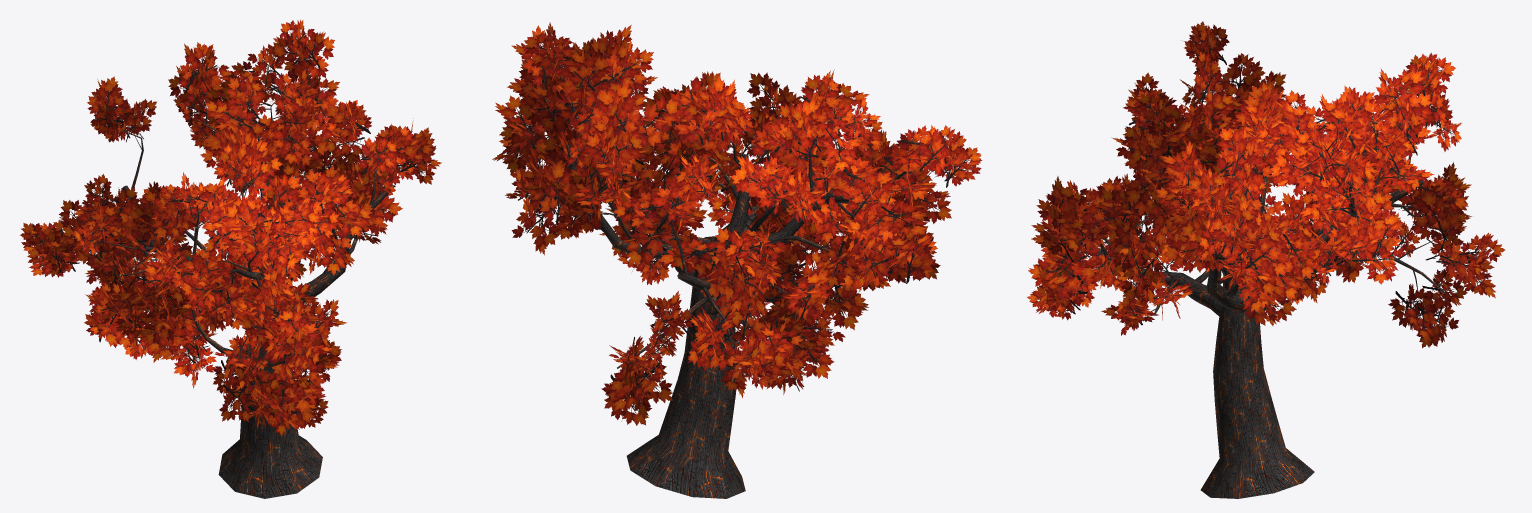
Rendered from nature-red-fireheart-tree.glb.
The picture shows the model from 3 angles, left to right: view 1: azimuth 30°, elevation 25°; view 2: azimuth 150°, elevation 25°; view 3: azimuth 270°, elevation 25°; orthographic projection. The views are drawn at different scales.
Visible parts, largest first — view 1: nature-red-fireheart-tree; view 2: nature-red-fireheart-tree; view 3: nature-red-fireheart-tree.
Part boxes in pixels (x1=…): nature-red-fireheart-tree: x1=20, y1=19, x2=441, y2=498; nature-red-fireheart-tree: x1=492, y1=22, x2=982, y2=498; nature-red-fireheart-tree: x1=1027, y1=21, x2=1505, y2=498.
Bounding box in the file's own units: 13.75 × 13.61 × 13.71.
Materials: 2 (2 with a texture image).
